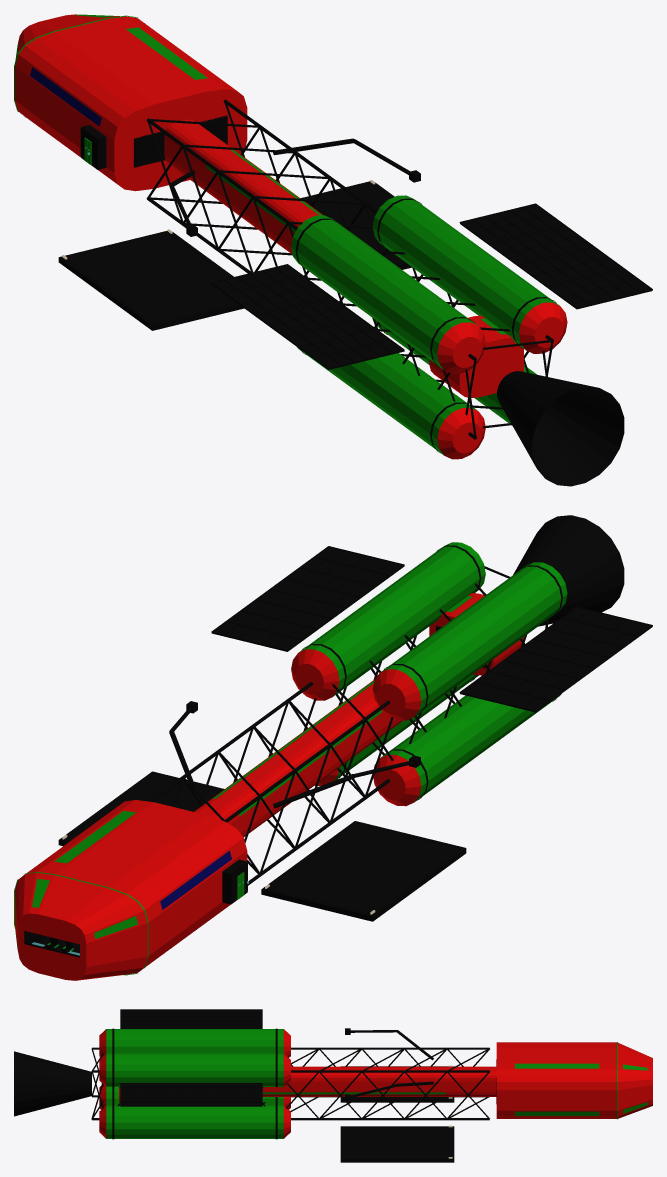
The model's file is anchor.glb.
3 renders of one model, top to bottom at view 1: azimuth 30°, elevation 25°; view 2: azimuth 150°, elevation 25°; view 3: azimuth 270°, elevation 25°, orthographic. The views are drawn at different scales.
Parts seen in each view (by area): view 1: pioneer_anchor:propellant, pioneer_anchor:pressure_hull_0, pioneer_anchor:berth_Berth port, pioneer_anchor:engine_0, pioneer_anchor:load_spine, pioneer_anchor:radiator_1, pioneer_anchor:radiator_2, pioneer_anchor:pressure_hull_1, pioneer_anchor:pressure_hull_2, pioneer_anchor:berth_Berth starboard, pioneer_anchor:radiator_cells_2, pioneer_anchor:radiator_cells_3 (+5 smaller); view 2: pioneer_anchor:propellant, pioneer_anchor:pressure_hull_0, pioneer_anchor:berth_Berth port, pioneer_anchor:radiator_2, pioneer_anchor:radiator_1, pioneer_anchor:pressure_hull_1, pioneer_anchor:load_spine, pioneer_anchor:engine_0, pioneer_anchor:berth_Berth starboard, pioneer_anchor:radiator_cells_3, pioneer_anchor:radiator_cells_2, pioneer_anchor:inspection_panels_0 (+4 smaller); view 3: pioneer_anchor:propellant, pioneer_anchor:pressure_hull_0, pioneer_anchor:pressure_hull_1, pioneer_anchor:load_spine, pioneer_anchor:berth_Berth starboard, pioneer_anchor:engine_0, pioneer_anchor:radiator_2, pioneer_anchor:radiator_1, pioneer_anchor:radiator_cells_3, pioneer_anchor:inspection_panels_0, pioneer_anchor:radiator_cells_2, pioneer_anchor:berth_Berth port (+4 smaller).
Part boxes in pixels (x1,y1,x2,y2): pioneer_anchor:propellant: [291, 195, 567, 459]; pioneer_anchor:pressure_hull_0: [15, 14, 247, 191]; pioneer_anchor:berth_Berth port: [58, 229, 244, 330]; pioneer_anchor:engine_0: [497, 371, 624, 486]; pioneer_anchor:load_spine: [146, 99, 553, 439]; pioneer_anchor:radiator_1: [211, 265, 404, 369]; pioneer_anchor:radiator_2: [460, 204, 652, 309]; pioneer_anchor:pressure_hull_1: [164, 119, 322, 254]; pioneer_anchor:pressure_hull_2: [429, 315, 523, 397]; pioneer_anchor:berth_Berth starboard: [300, 180, 411, 269]; pioneer_anchor:radiator_cells_2: [211, 264, 404, 368]; pioneer_anchor:radiator_cells_3: [459, 203, 652, 308]; pioneer_anchor:propellant: [291, 542, 567, 806]; pioneer_anchor:pressure_hull_0: [15, 800, 247, 980]; pioneer_anchor:berth_Berth port: [261, 821, 466, 921]; pioneer_anchor:radiator_2: [211, 547, 404, 651]; pioneer_anchor:radiator_1: [460, 607, 652, 712]; pioneer_anchor:pressure_hull_1: [194, 679, 402, 837]; pioneer_anchor:load_spine: [148, 566, 548, 885]; pioneer_anchor:engine_0: [513, 515, 624, 626]; pioneer_anchor:berth_Berth starboard: [58, 771, 224, 846]; pioneer_anchor:radiator_cells_3: [211, 546, 404, 650]; pioneer_anchor:radiator_cells_2: [459, 606, 652, 711]; pioneer_anchor:inspection_panels_0: [15, 810, 231, 948]; pioneer_anchor:propellant: [99, 1029, 290, 1138]; pioneer_anchor:pressure_hull_0: [496, 1042, 652, 1118]; pioneer_anchor:pressure_hull_1: [262, 1066, 496, 1096]; pioneer_anchor:load_spine: [91, 1047, 489, 1120]; pioneer_anchor:berth_Berth starboard: [340, 1125, 454, 1162]; pioneer_anchor:engine_0: [14, 1051, 91, 1116]; pioneer_anchor:radiator_2: [120, 1083, 262, 1106]; pioneer_anchor:radiator_1: [120, 1010, 262, 1028]; pioneer_anchor:radiator_cells_3: [120, 1083, 262, 1105]; pioneer_anchor:inspection_panels_0: [515, 1063, 647, 1115]; pioneer_anchor:radiator_cells_2: [120, 1009, 262, 1028]; pioneer_anchor:berth_Berth port: [340, 1065, 454, 1102].
Size of the model in its own units: 32.04 by 12.96 by 90.
